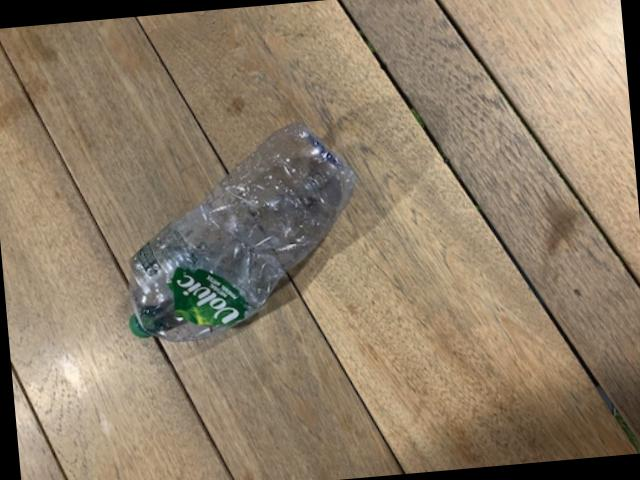plastic: (131, 124, 356, 342)
